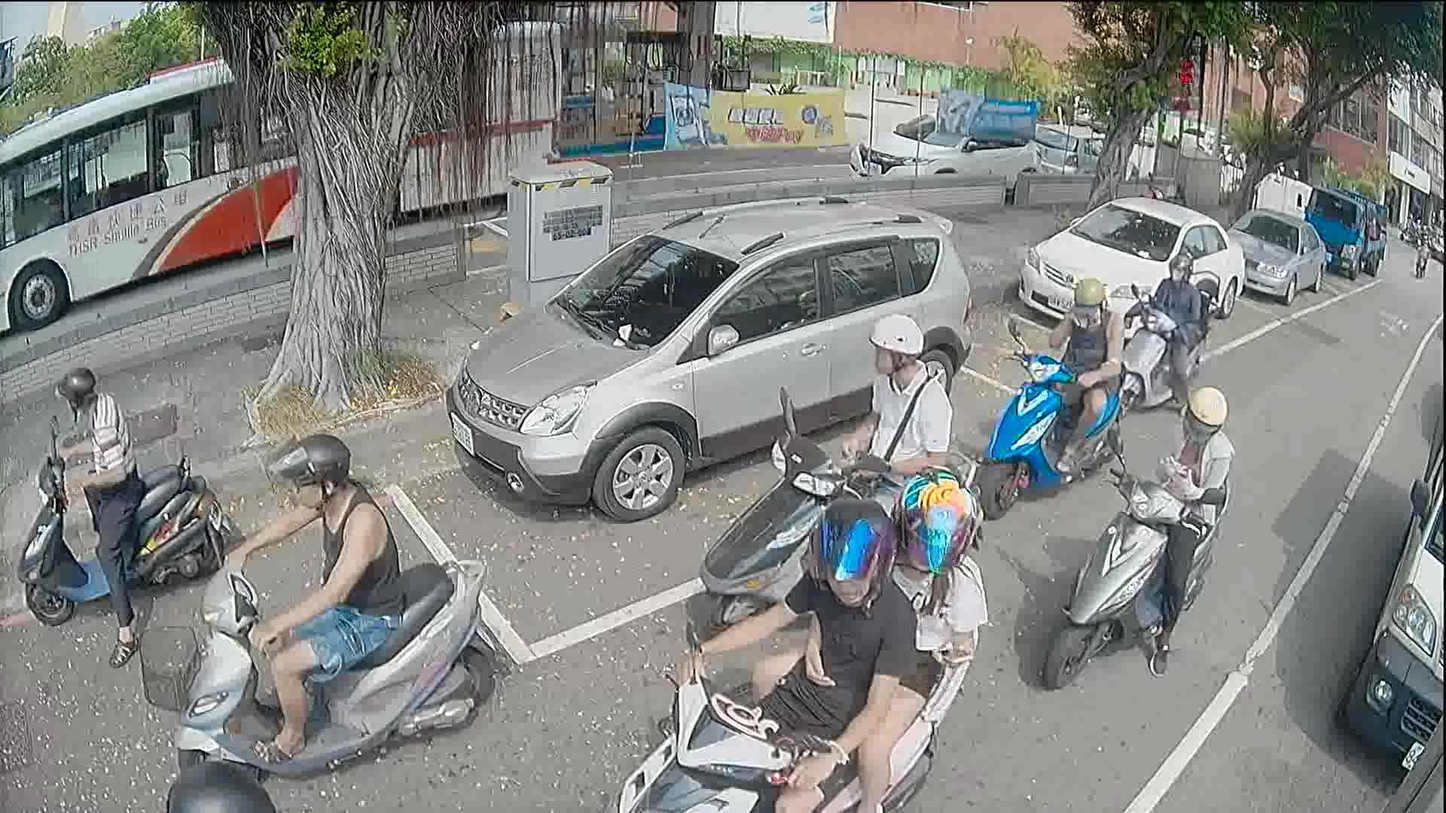person: (668, 483, 931, 810), (770, 479, 975, 812), (214, 423, 403, 769), (1130, 376, 1228, 676), (50, 356, 143, 659), (840, 312, 952, 503), (1022, 263, 1118, 474), (1146, 253, 1210, 406), (163, 742, 276, 812)
